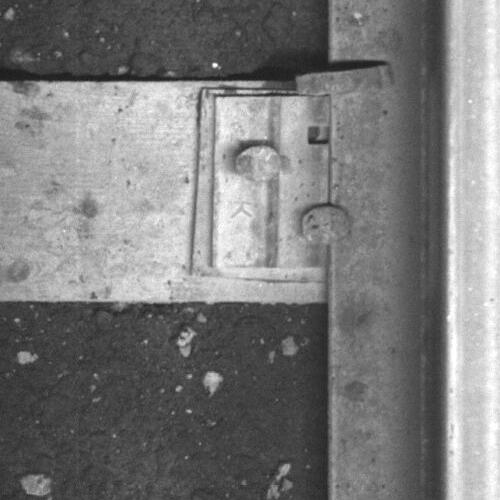crutch: (294, 63, 396, 96)
do: (212, 94, 354, 268)
rail: (446, 1, 500, 500)
tie_wood: (1, 81, 327, 305)
